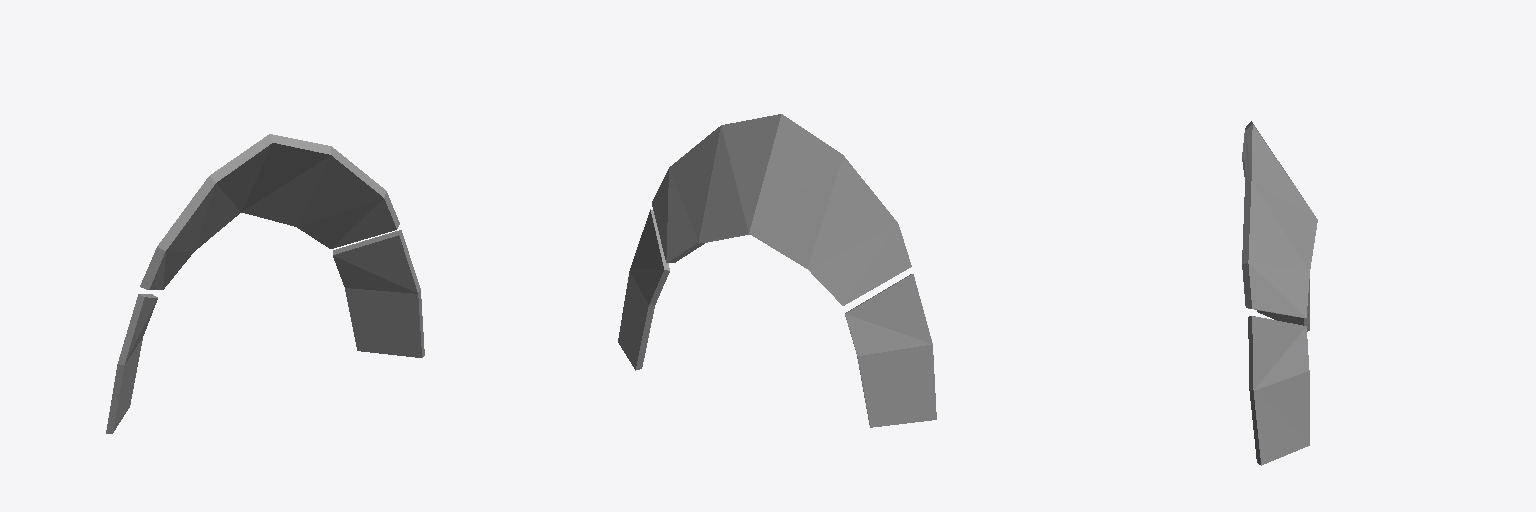
The model's file is Plano.001.obj.
3 renders of one model, left to right at view 1: azimuth 30°, elevation 25°; view 2: azimuth 150°, elevation 25°; view 3: azimuth 270°, elevation 25°, orthographic.
Visible parts, largest first — view 1: Plano.001; view 2: Plano.001; view 3: Plano.001.
Part boxes in pixels (x1,y1,x2,y2): Plano.001: (106, 134, 424, 433); Plano.001: (618, 114, 936, 427); Plano.001: (1242, 121, 1317, 465).
Size of the model in its own units: 0.6134 by 0.4855 by 0.1266.